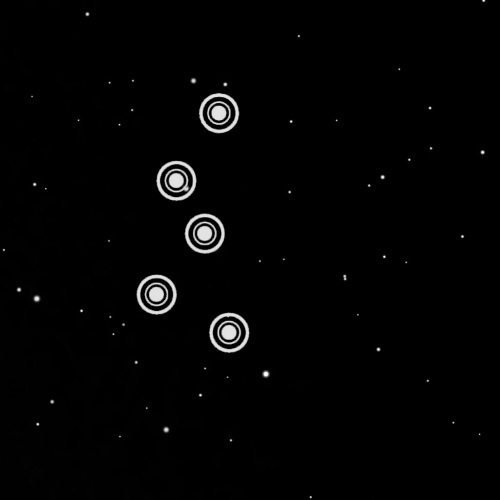cassiopeia: (125, 77, 263, 370)
